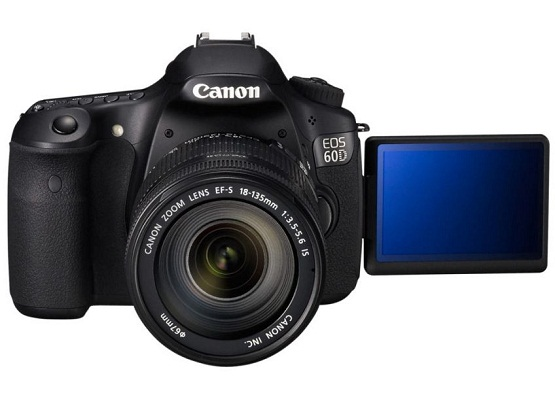kamera: (4, 29, 555, 370)
